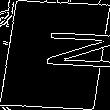N_W: (7, 33, 103, 77)
